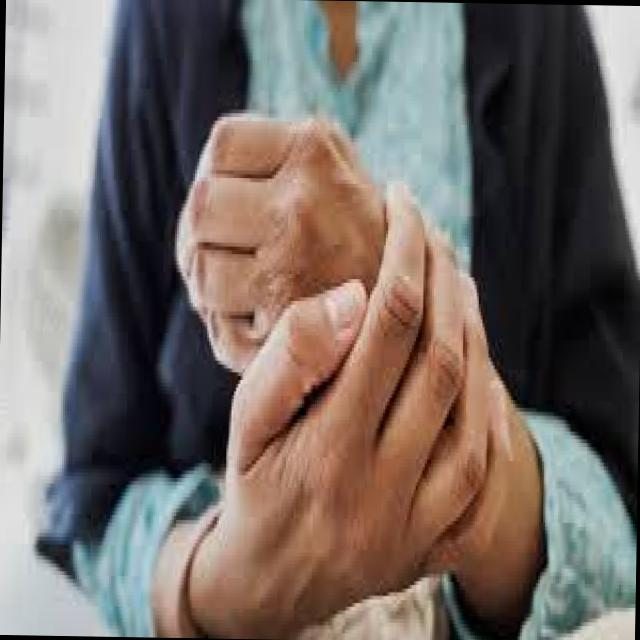Hand: (221, 177, 501, 640), (169, 100, 495, 448)
